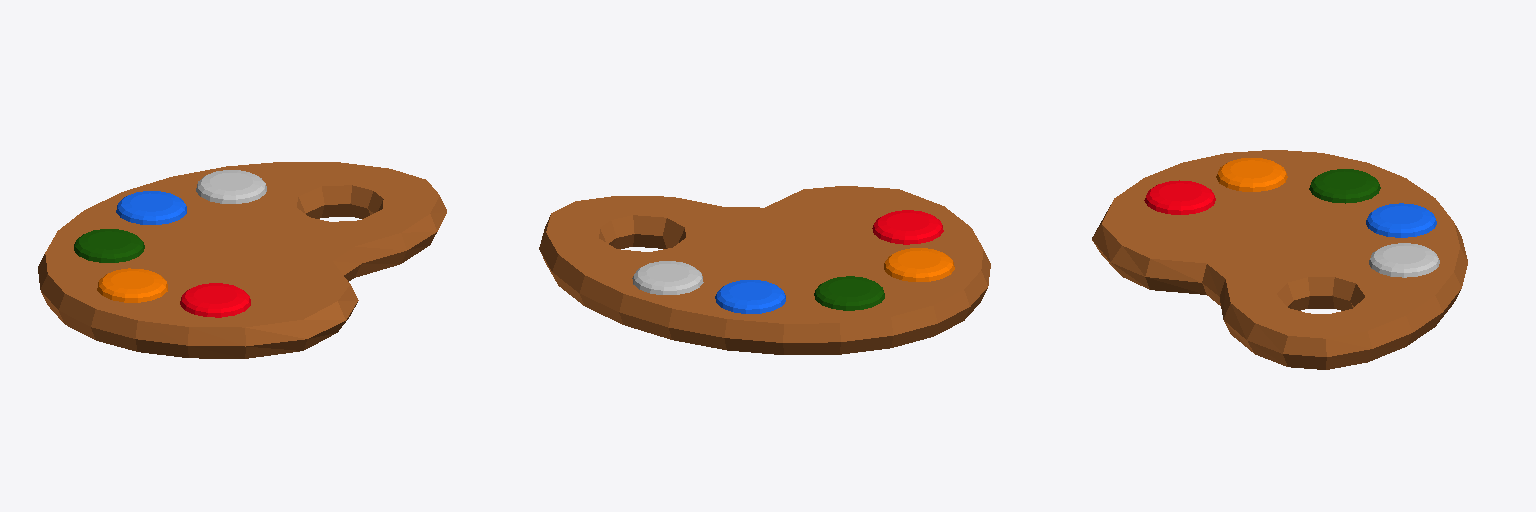
Rendered from palette.obj.
3 views of the same model, side by side, from view 1: azimuth 30°, elevation 25°; view 2: azimuth 150°, elevation 25°; view 3: azimuth 270°, elevation 25° (orthographic).
Visible parts, largest first — view 1: palette_Cylinder.081; view 2: palette_Cylinder.081; view 3: palette_Cylinder.081.
Part boxes in pixels (x1,y1,x2,y2): palette_Cylinder.081: (38, 162, 446, 358); palette_Cylinder.081: (539, 186, 990, 354); palette_Cylinder.081: (1092, 150, 1467, 369).
Bounding box in the file's own units: 0.6613 × 0.0619 × 0.54.